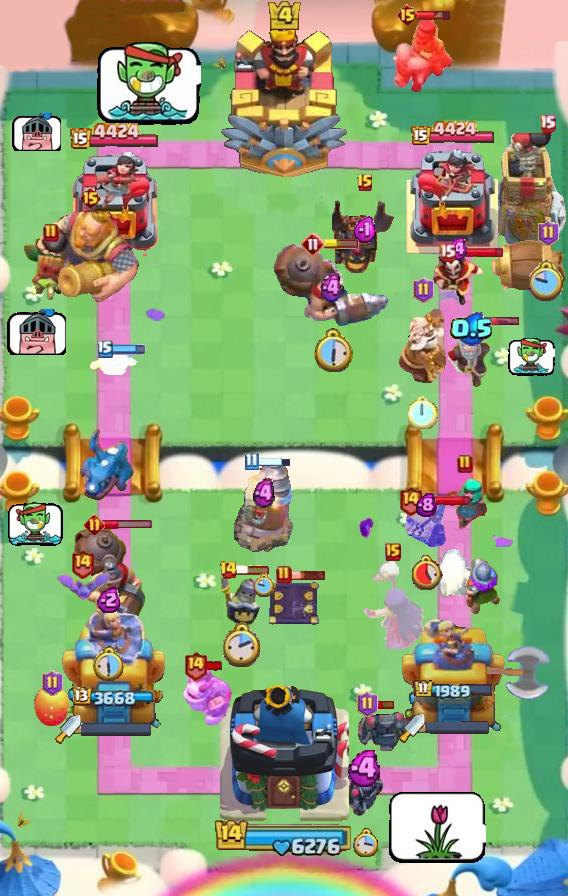axe: (487, 645, 553, 701)
bar: (420, 494, 471, 507), (453, 246, 504, 259), (468, 316, 520, 327), (102, 519, 153, 530), (290, 569, 327, 581), (235, 564, 271, 576), (417, 9, 452, 21), (110, 344, 146, 355), (256, 456, 291, 467), (323, 239, 359, 249), (205, 660, 224, 672), (375, 699, 395, 710)
bar-level: (183, 650, 208, 681), (70, 548, 95, 579), (398, 485, 423, 516), (301, 232, 325, 256), (79, 186, 102, 210), (396, 3, 419, 27), (357, 691, 378, 717), (42, 670, 63, 696), (413, 277, 434, 303), (538, 220, 559, 246), (84, 514, 105, 535), (219, 560, 238, 580), (356, 173, 374, 193), (439, 243, 456, 262), (539, 114, 556, 133), (276, 565, 292, 585), (457, 454, 473, 474), (43, 223, 59, 243), (385, 543, 401, 561), (97, 340, 113, 358), (244, 452, 259, 471)
barbarian-barrel: (488, 237, 568, 297)
barbarian-evolution: (403, 498, 449, 547)
bat-evolution: (52, 572, 112, 602)
clock: (312, 328, 353, 373), (223, 622, 262, 669), (529, 260, 565, 301), (409, 554, 443, 590), (93, 646, 126, 682), (408, 395, 438, 429), (353, 828, 379, 857), (254, 573, 275, 597)
dagger-duchess-tower: (59, 595, 169, 731), (401, 615, 506, 731)
dagger-duchess-tower-bar: (81, 722, 153, 736), (425, 721, 489, 734)
dart-goblin: (22, 236, 80, 302)
electro-dragon: (78, 428, 136, 502)
electro-wizard: (430, 249, 486, 307)
elixir: (450, 312, 494, 346), (347, 750, 385, 787), (318, 273, 346, 303), (353, 216, 378, 244), (253, 478, 275, 509), (97, 586, 122, 613), (416, 492, 437, 517), (447, 238, 470, 260)
emote: (96, 42, 201, 126), (388, 790, 486, 864), (6, 309, 66, 355), (8, 502, 64, 547), (11, 113, 61, 151), (508, 338, 555, 376)
guard: (218, 567, 266, 627)
ice-spirit: (431, 549, 473, 597), (89, 345, 139, 375)
ice-wizard: (444, 322, 500, 390)
king-tower: (219, 23, 349, 181), (220, 678, 349, 826)
king-tower-bar: (214, 817, 354, 857)
mega-minion: (181, 665, 235, 725)
mini-pekka: (354, 708, 414, 754), (345, 773, 387, 817)
musketeer: (465, 554, 503, 616)
phoenix-egg: (32, 684, 72, 728)
queen-tower: (403, 146, 503, 256), (69, 152, 159, 256)
ram-rider: (390, 16, 454, 96)
rascal-girl: (442, 477, 488, 529)
tower-bar: (69, 122, 160, 152), (410, 120, 496, 148), (413, 679, 494, 701), (73, 687, 156, 708)
witch: (361, 561, 425, 649)
